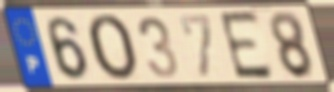3: (137, 15, 178, 80)
6: (44, 14, 92, 83)
7: (176, 13, 215, 80)
8: (267, 8, 316, 81)
E: (216, 8, 277, 82)
O: (85, 12, 141, 84)
